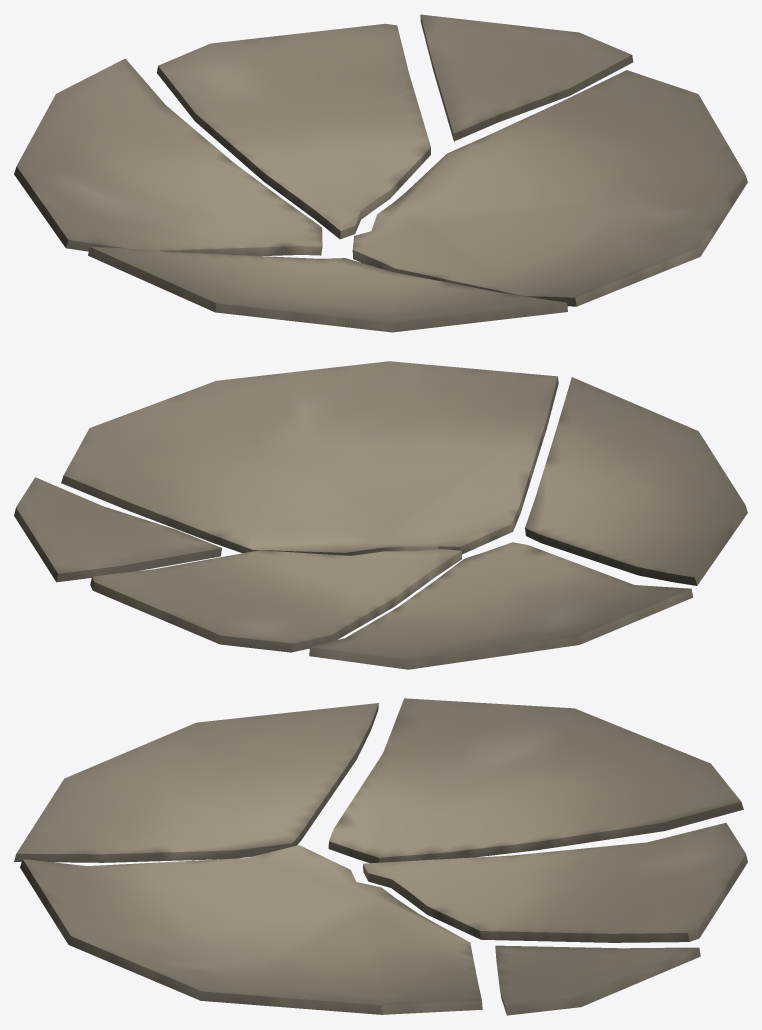
The model's file is разбитая тарелка 2.fbx.
3 renders of one model, top to bottom at view 1: azimuth 30°, elevation 25°; view 2: azimuth 150°, elevation 25°; view 3: azimuth 270°, elevation 25°, orthographic. The views are drawn at different scales.
Visible parts, largest first — view 1: тарелка большая.001_cell.004; view 2: тарелка большая.001_cell.004; view 3: тарелка большая.001_cell.004.
Part boxes in pixels (x1,y1,x2,y2): тарелка большая.001_cell.004: [14, 14, 747, 332]; тарелка большая.001_cell.004: [14, 361, 747, 669]; тарелка большая.001_cell.004: [14, 698, 747, 1015].
Size of the model in its own units: 30.84 by 2.75 by 30.64.
1 material, 1 textured.
